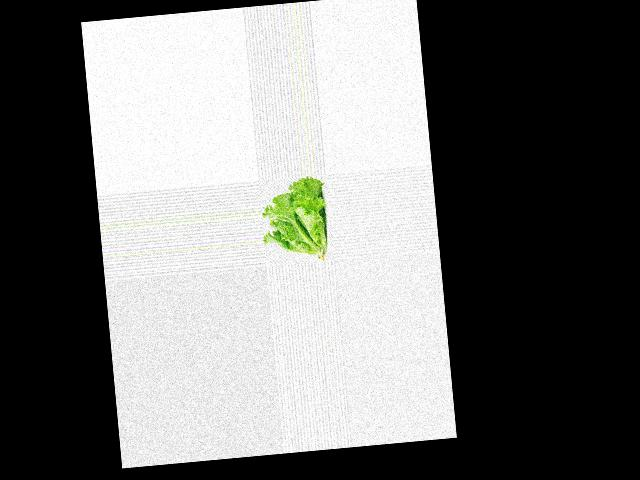lettuce: (258, 176, 328, 266)
